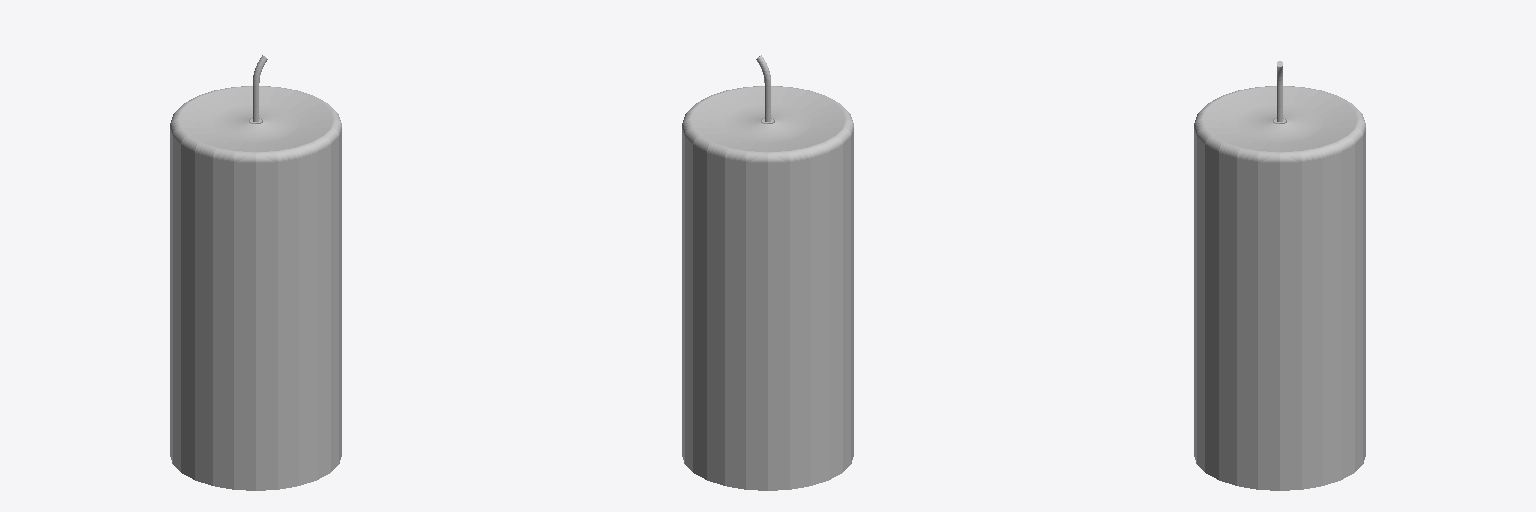
Rendered from candle.obj.
3 views of the same model, side by side, from view 1: azimuth 30°, elevation 25°; view 2: azimuth 150°, elevation 25°; view 3: azimuth 270°, elevation 25° (orthographic).
Visible parts, largest first — view 1: Mesh; view 2: Mesh; view 3: Mesh.
Part boxes in pixels (x1,y1,x2,y2): Mesh: (170,55,341,490); Mesh: (682,55,853,490); Mesh: (1194,61,1365,490).
Size of the model in its own units: 0.117 by 0.2969 by 0.117.